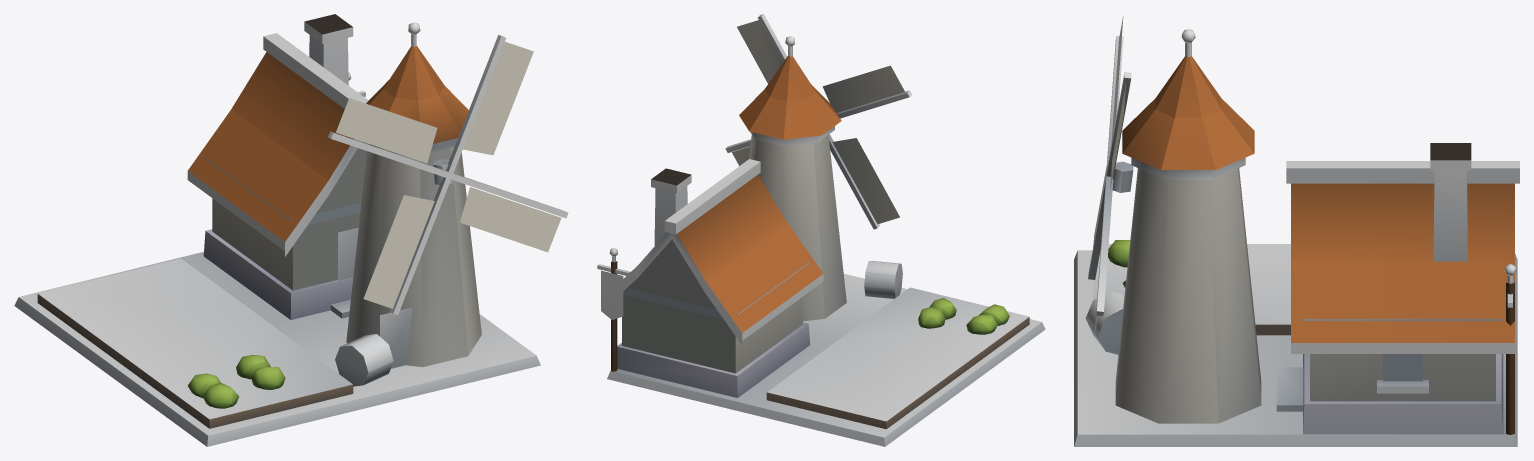
The model's file is farm_t5.glb.
The picture shows the model from 3 angles, left to right: view 1: azimuth 30°, elevation 25°; view 2: azimuth 150°, elevation 25°; view 3: azimuth 270°, elevation 25°; orthographic projection. The views are drawn at different scales.
Visible parts, largest first — view 1: farm_t5; view 2: farm_t5; view 3: farm_t5.
Boxes of the visible parts, box(x1,y1,x2,y2) form: farm_t5: box(14, 14, 568, 446); farm_t5: box(597, 14, 1045, 446); farm_t5: box(1074, 16, 1519, 446).
Size of the model in its own units: 2.07 by 1.73 by 1.87.
